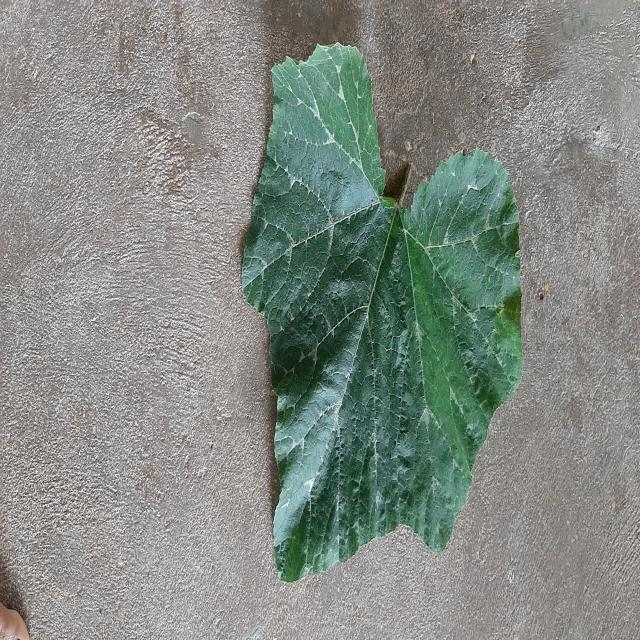pumpkin: (242, 43, 522, 580)
